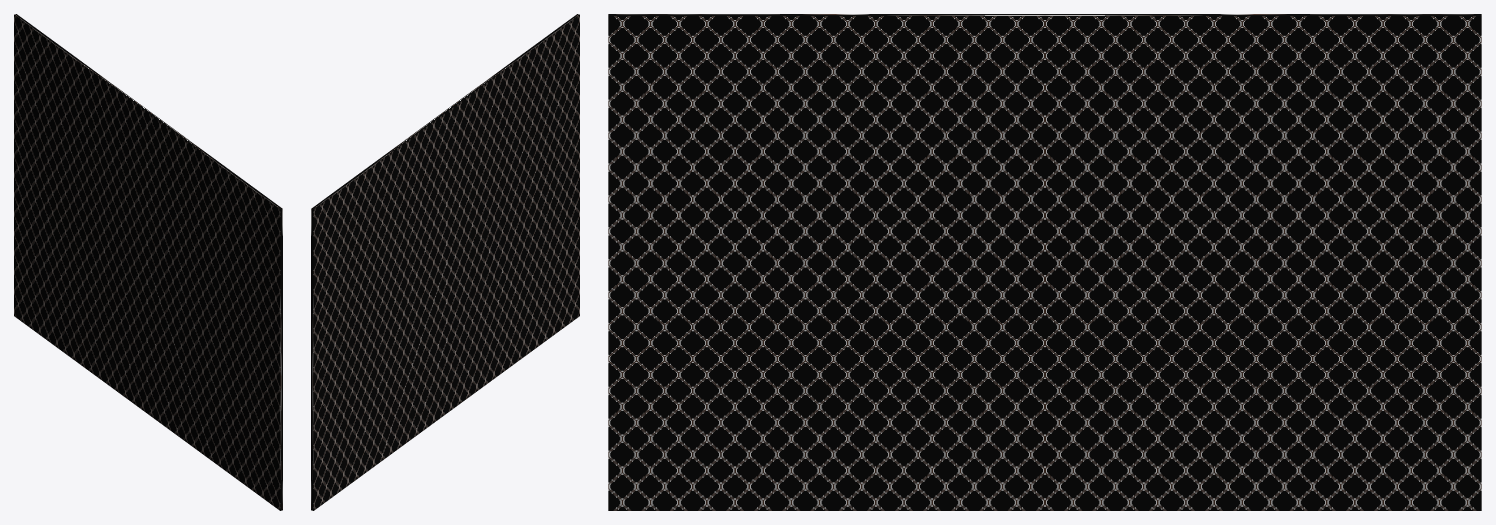
The model's file is fence2.fbx.
3 views of the same model, side by side, from view 1: azimuth 30°, elevation 25°; view 2: azimuth 150°, elevation 25°; view 3: azimuth 270°, elevation 25° (orthographic). The views are drawn at different scales.
Visible parts, largest first — view 1: Cube.001, Cube; view 2: Cube, Cube.001; view 3: Cube, Cube.001.
Boxes of the visible parts, bbox=[...] form: Cube.001: bbox=[147, 111, 282, 510]; Cube: bbox=[14, 14, 149, 413]; Cube: bbox=[311, 111, 446, 510]; Cube.001: bbox=[444, 14, 579, 413]; Cube: bbox=[1045, 14, 1481, 510]; Cube.001: bbox=[608, 14, 1044, 510].
Size of the model in its own units: 3.82 by 414 by 662.
